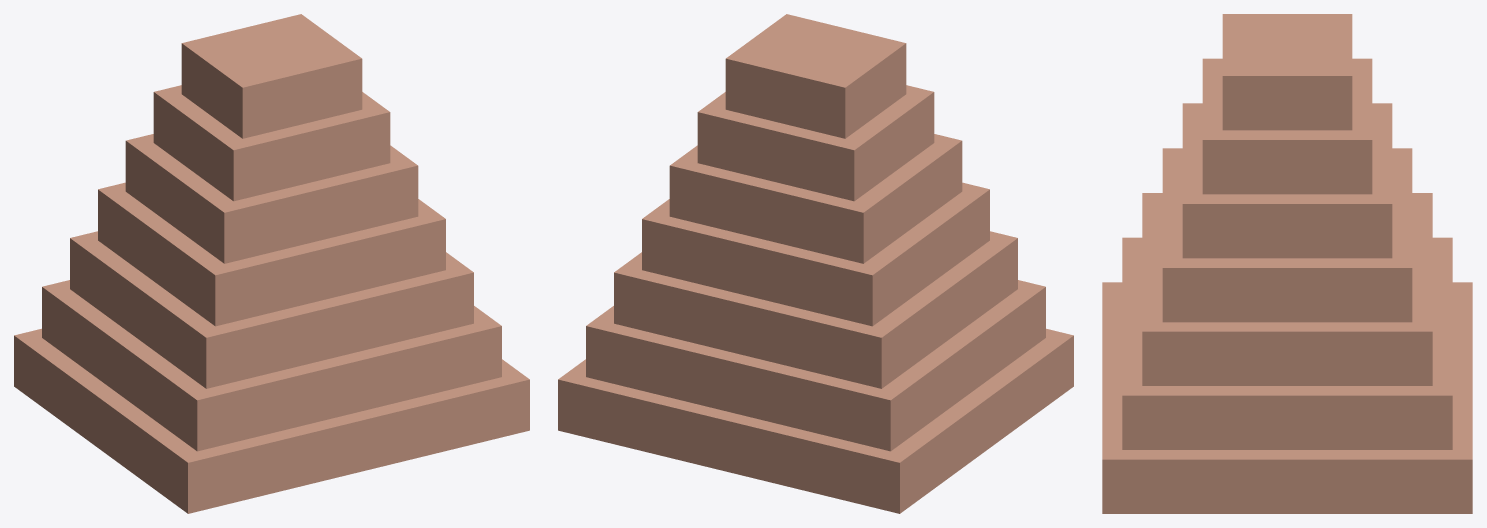
The model's file is place-tomb-of-askia-gao.glb.
The picture shows the model from 3 angles, left to right: view 1: azimuth 30°, elevation 25°; view 2: azimuth 150°, elevation 25°; view 3: azimuth 270°, elevation 25°; orthographic projection. The views are drawn at different scales.
Visible parts, largest first — view 1: place-tomb-of-askia-gao; view 2: place-tomb-of-askia-gao; view 3: place-tomb-of-askia-gao.
Boxes of the visible parts, x1=… form: place-tomb-of-askia-gao: x1=14, y1=14, x2=529, y2=513; place-tomb-of-askia-gao: x1=558, y1=14, x2=1073, y2=513; place-tomb-of-askia-gao: x1=1102, y1=14, x2=1472, y2=513.
Size of the model in its own units: 17 by 17 by 15.
